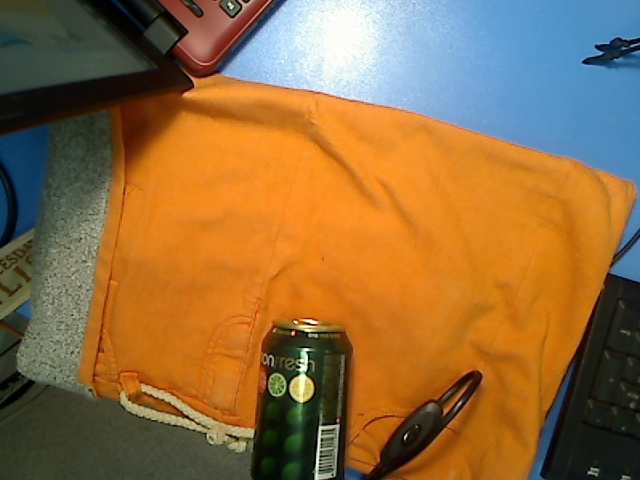can: (248, 316, 357, 480)
